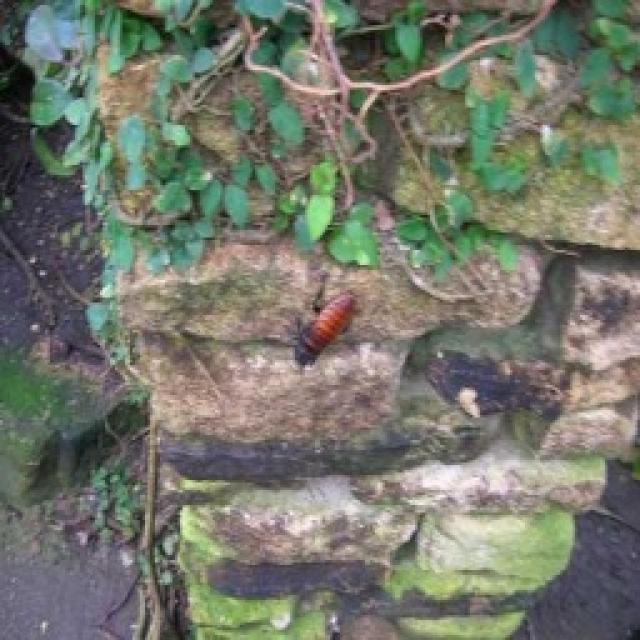cockroach: (293, 288, 368, 374)
